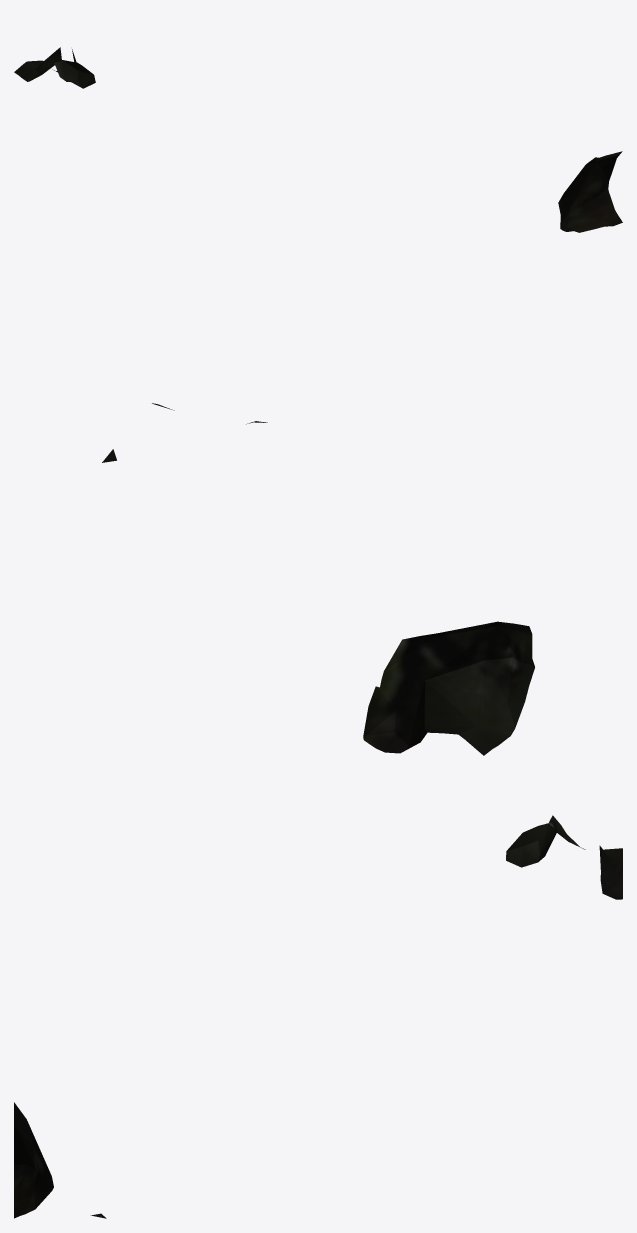
The picture shows the model from 3 angles, top to bottom: view 1: azimuth 30°, elevation 25°; view 2: azimuth 150°, elevation 25°; view 3: azimuth 270°, elevation 25°; orthographic projection. The views are drawn at different scales.
Bounding box in the file's own units: 1.67 × 0.5501 × 1.67.
Materials: 1 (1 with a texture image).
